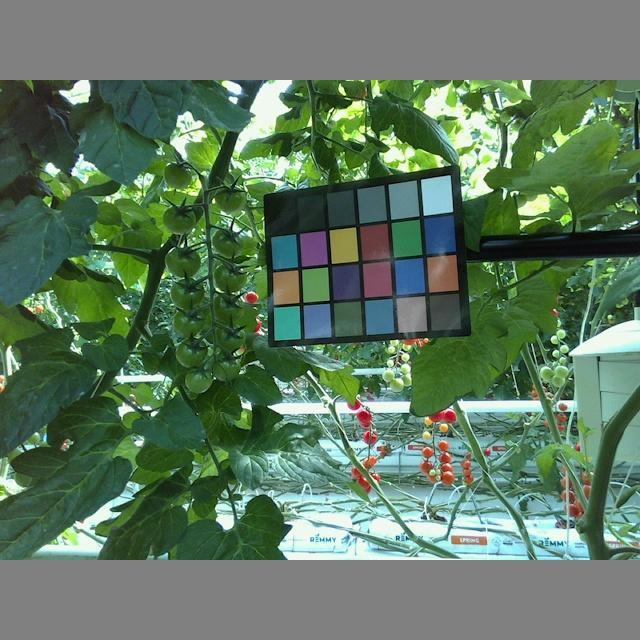green: (164, 246, 201, 277), (174, 337, 209, 368), (211, 264, 248, 293), (171, 277, 205, 308), (211, 324, 246, 354), (161, 206, 197, 234), (211, 294, 244, 324), (172, 309, 205, 339), (211, 229, 244, 257), (183, 364, 212, 394), (209, 354, 240, 382), (162, 161, 194, 188), (214, 185, 245, 211)
